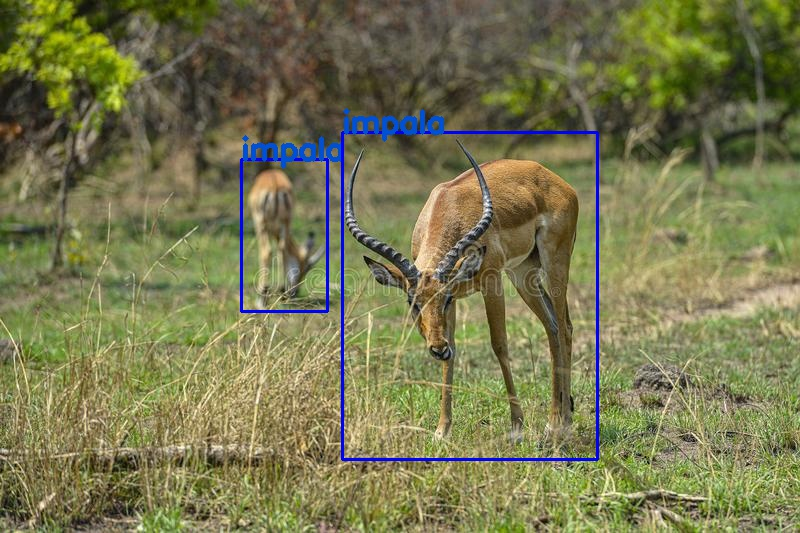impala: (342, 132, 597, 458), (241, 159, 327, 311)
